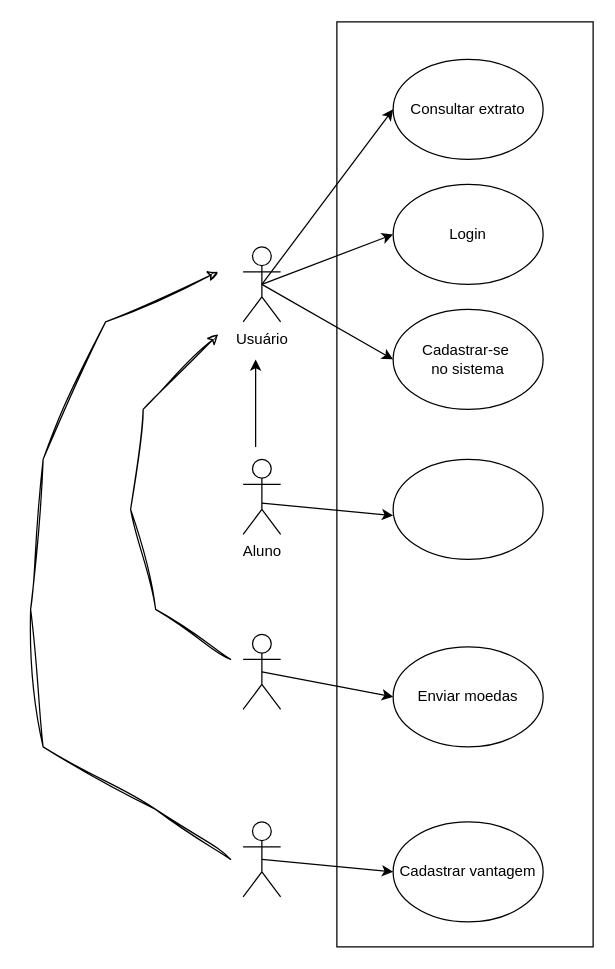
Some shapes in this 615 by 969 pixel diagram are drawn without their labels. Here are the shapes that lost their labels. From the top down, the centre of each, then its label:
At point 467,508: "Trocar moedas".
At point 261,671: "Professor".
At point 261,859: "Empresa".
